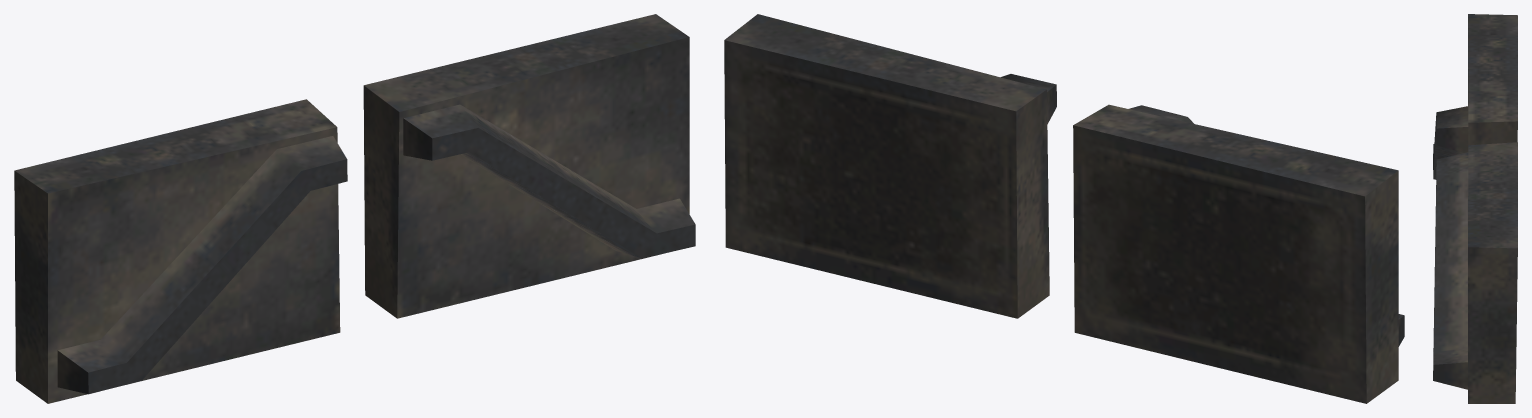
3 renders of one model, left to right at view 1: azimuth 30°, elevation 25°; view 2: azimuth 150°, elevation 25°; view 3: azimuth 270°, elevation 25°, orthographic. The views are drawn at different scales.
Parts seen in each view (by area): view 1: set_0_group_0; view 2: set_0_group_0; view 3: set_0_group_0.
Part boxes in pixels (x1=…): set_0_group_0: x1=14, y1=14, x2=695, y2=403; set_0_group_0: x1=724, y1=14, x2=1404, y2=403; set_0_group_0: x1=1433, y1=14, x2=1517, y2=403.
Bounding box in the file's own units: 0.413 × 0.1294 × 0.0635.
Materials: 1 (1 with a texture image).
